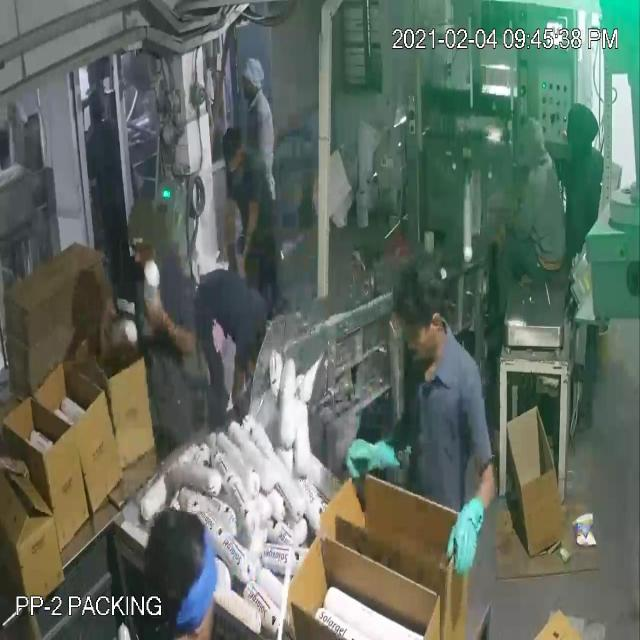gloves: (436, 470, 502, 594), (328, 416, 418, 498)
no-gloves: (136, 287, 198, 365), (230, 189, 270, 287)
